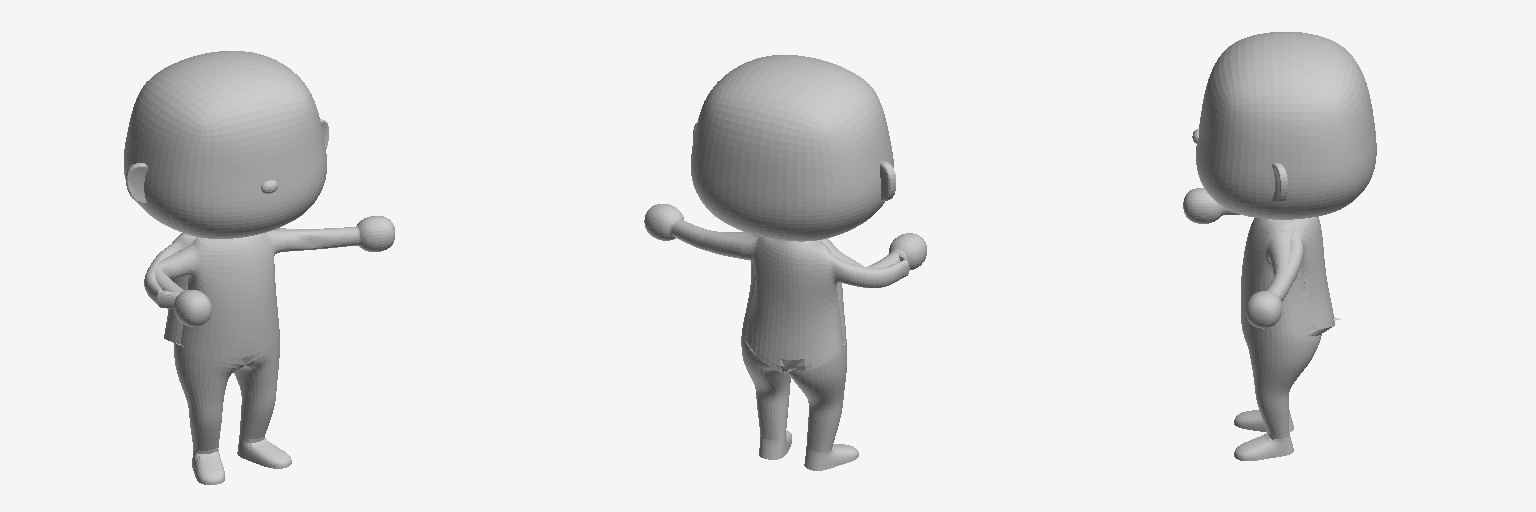
The model's file is Macchiato with empty hand or working.obj.
3 renders of one model, left to right at view 1: azimuth 30°, elevation 25°; view 2: azimuth 150°, elevation 25°; view 3: azimuth 270°, elevation 25°, orthographic.
Parts seen in each view (by area): view 1: Cube.001, Cube.002, Cube.003, Cube.008, Cube.004, Cube.005; view 2: Cube.001, Cube.002, Cube.003, Cube.008, Cube.004, Cube.005; view 3: Cube.001, Cube.002, Cube.003, Cube.008, Cube.004, Cube.005.
Boxes of the visible parts, box(x1,y1,x2,y2) form: Cube.001: box(124, 51, 328, 238); Cube.002: box(144, 227, 358, 364); Cube.003: box(174, 329, 279, 453); Cube.008: box(192, 438, 291, 484); Cube.004: box(356, 216, 394, 251); Cube.005: box(174, 290, 211, 326); Cube.001: box(691, 55, 895, 241); Cube.002: box(672, 219, 909, 375); Cube.003: box(741, 334, 846, 451); Cube.008: box(759, 430, 858, 470); Cube.004: box(644, 204, 683, 240); Cube.005: box(889, 233, 926, 270); Cube.001: box(1192, 32, 1376, 219); Cube.002: box(1223, 207, 1340, 335); Cube.003: box(1244, 334, 1321, 439); Cube.008: box(1234, 410, 1293, 460); Cube.004: box(1246, 291, 1281, 328); Cube.005: box(1183, 188, 1222, 223).
Bounding box in the file's own units: 2.13 × 3.1 × 1.38.